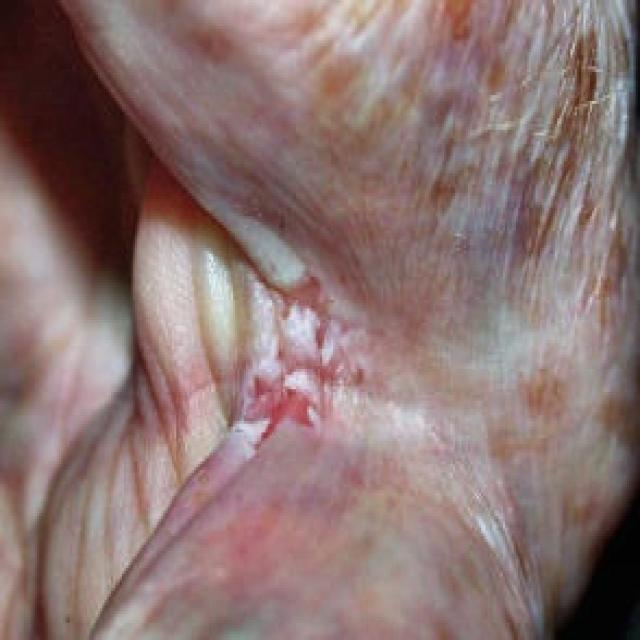Tinea Ringworm Candidiasis and other Fungal Infections: (162, 205, 418, 454)
